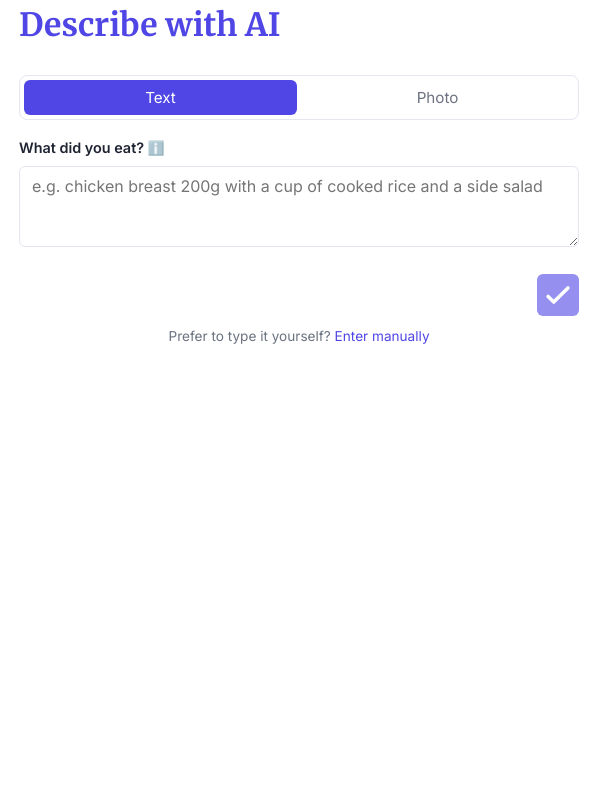
it: AiEntryPage › estimate populates multiple review rows
Type "chicken and broccoli" into the text box labelled "What did you eat? ℹ️".
click(299, 206); type("chicken and broccoli")  # box [19,166,579,247]
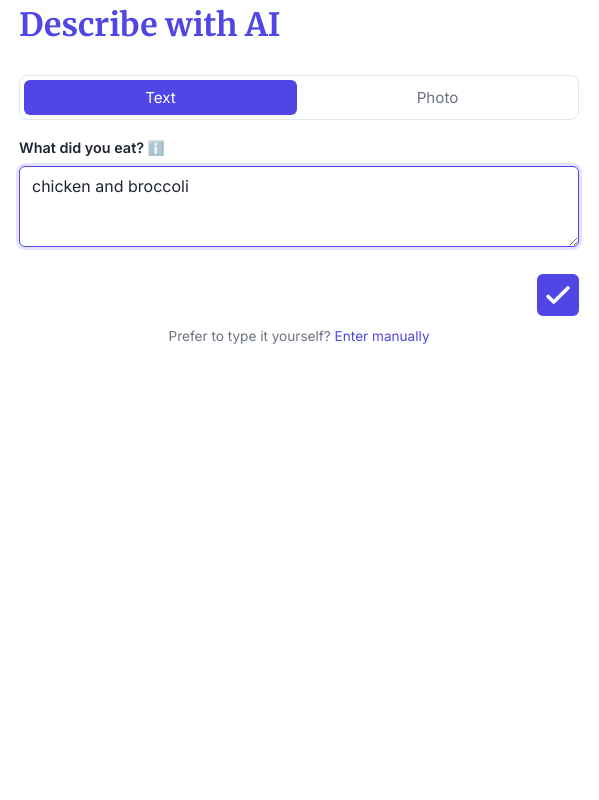
Click the button named "Estimate".
click(558, 295)  # box [537,274,579,316]
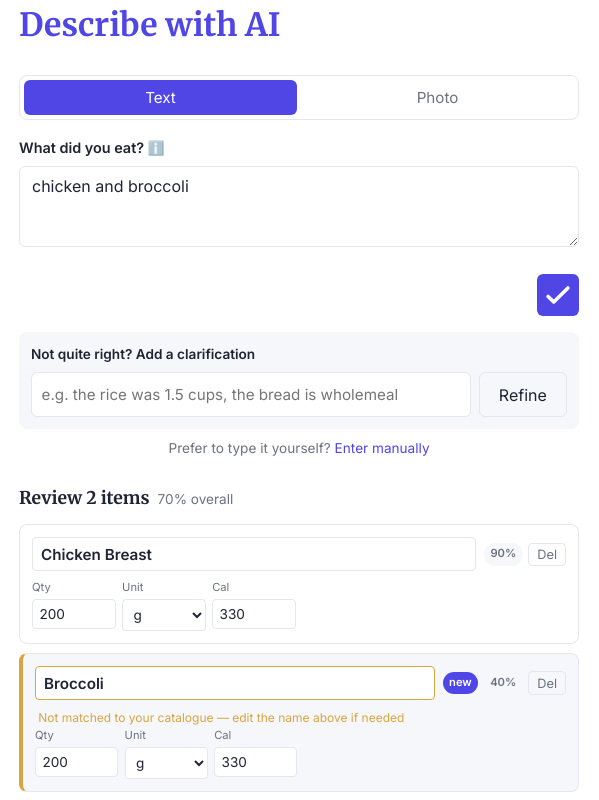
Result: the field showing "Chicken Breast" next to "90" is shown at [32,537,476,571]
Result: the field showing "Broccoli" in the row of "40" is shown at [35,666,435,700]
Result: the text "new" is shown at [443,672,478,694]
